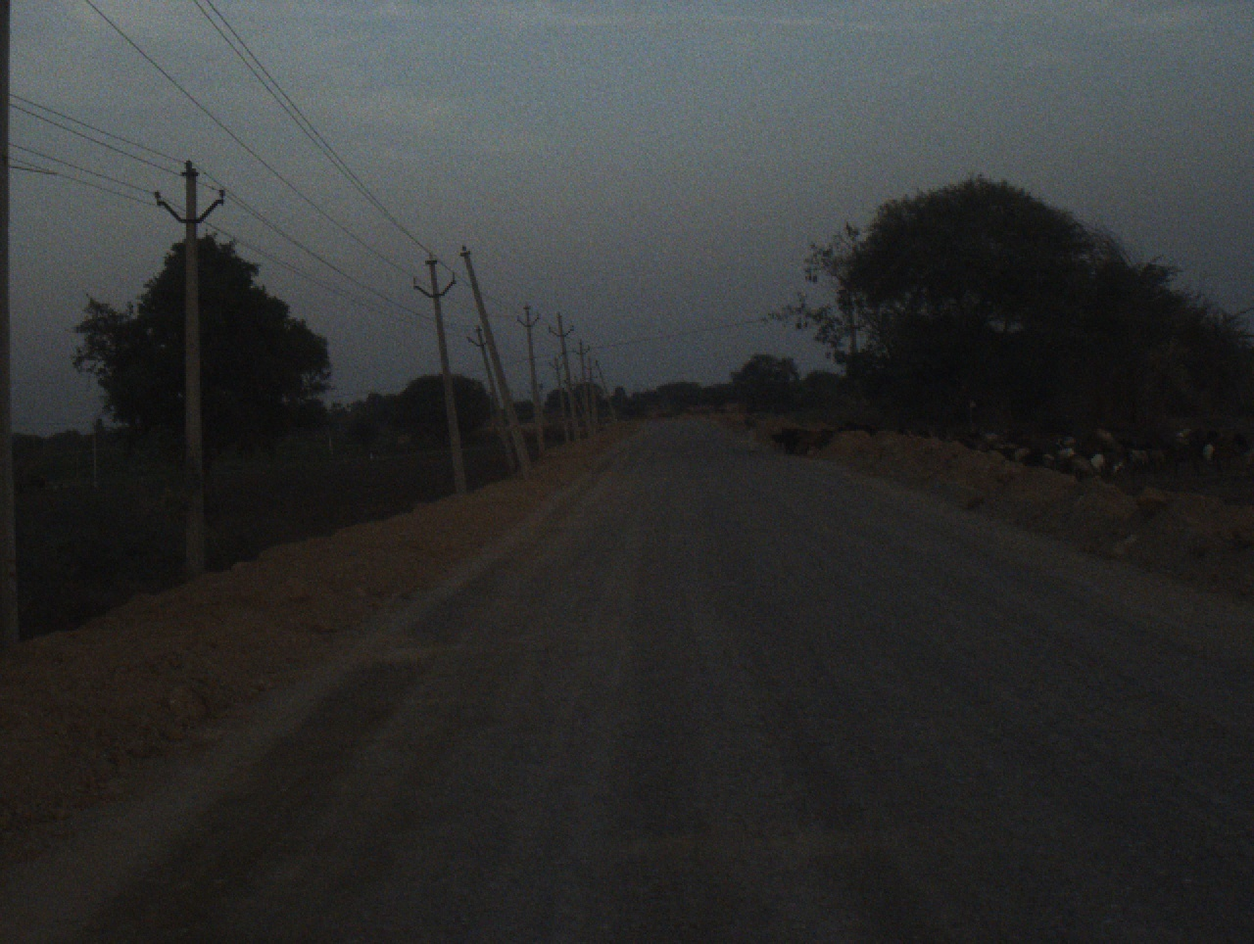animal: (1164, 427, 1246, 468), (1063, 423, 1108, 477), (981, 433, 1056, 465), (1113, 426, 1154, 477), (771, 421, 823, 454), (907, 420, 968, 442), (844, 420, 899, 431)
person: (740, 401, 761, 453)
